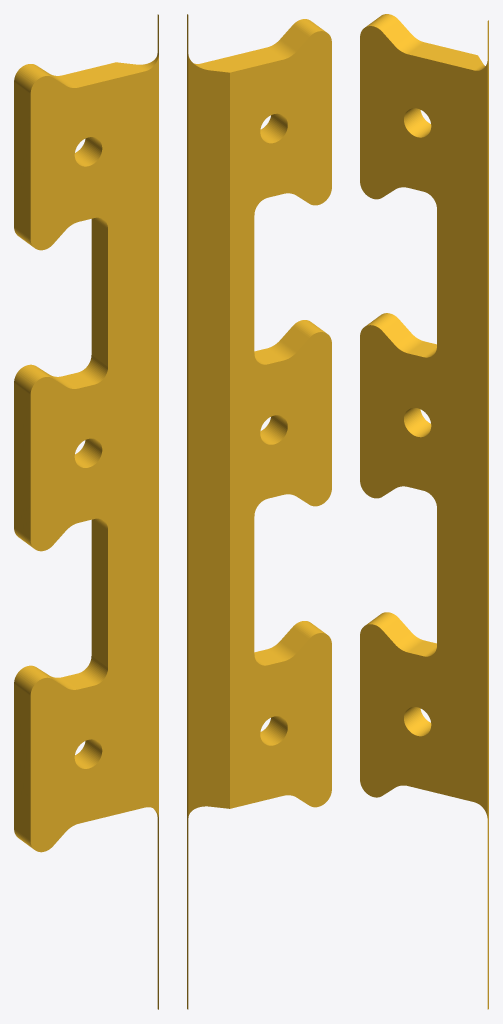
Rendered from door-right-flap.glb.
3 renders of one model, left to right at view 1: azimuth 30°, elevation 25°; view 2: azimuth 210°, elevation 25°; view 3: azimuth 330°, elevation 25°, orthographic.
Parts seen in each view (by area): view 1: door-right-flap; view 2: door-right-flap; view 3: door-right-flap.
Boxes of the visible parts, box(x1,y1,x2,y2) form: door-right-flap: box(14, 14, 158, 1009); door-right-flap: box(187, 14, 331, 1009); door-right-flap: box(360, 14, 488, 1009).
Bounding box in the file's own units: 107 × 796 × 24.
